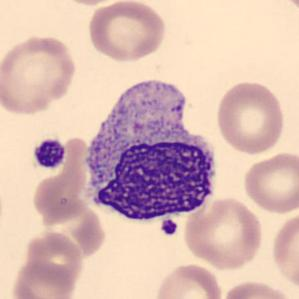Monocyte: (78, 72, 224, 234)
Platelets: (31, 136, 67, 171), (160, 218, 179, 238)
RBC: (0, 32, 79, 117), (181, 195, 265, 271), (213, 79, 287, 156), (86, 0, 168, 64), (36, 197, 108, 261), (241, 150, 298, 215), (22, 230, 85, 288), (9, 258, 78, 299), (152, 261, 225, 299), (269, 209, 298, 293), (220, 278, 296, 299), (53, 0, 130, 7)
